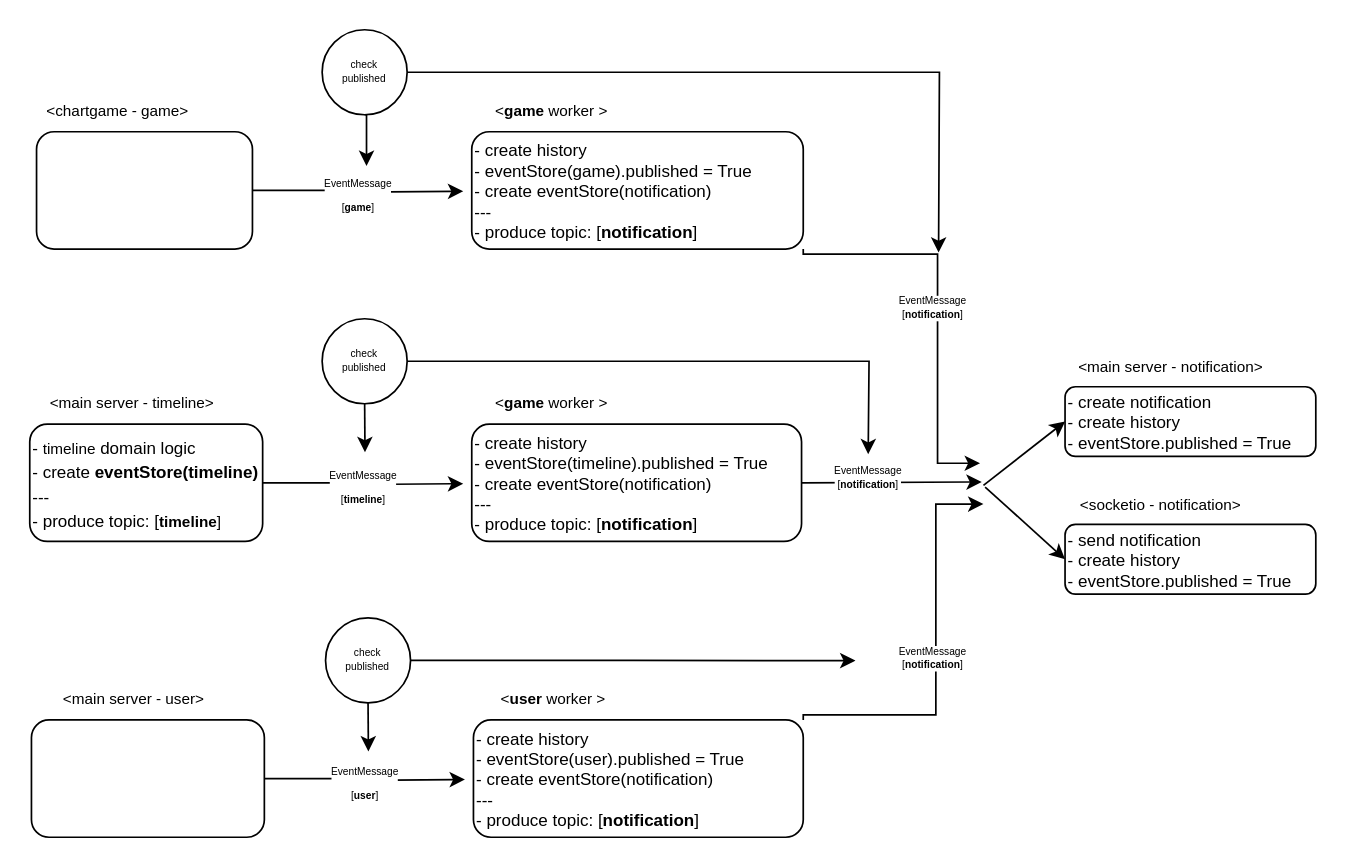
The diagram is 1346 pixels wide and 867 high, and some of its shapes have lost their labels. Each missing label, with the centre of its shape:
"- account domain logic - create eventStore(user) --- - produce topic: [ user ]" goes at pixel 147 777.
"- game domain logic - create eventStore(game) --- - produce topic: [ game ]" goes at pixel 143 189.
